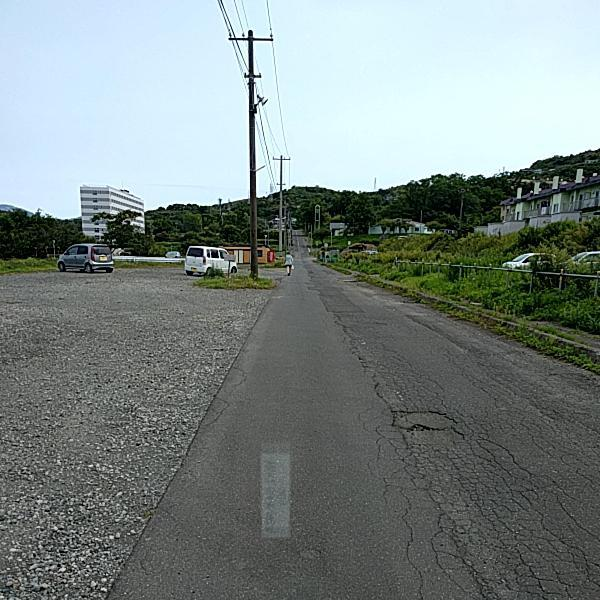D20: (348, 340, 596, 599), (204, 395, 231, 428), (226, 360, 250, 393)
D40: (403, 419, 442, 434)
